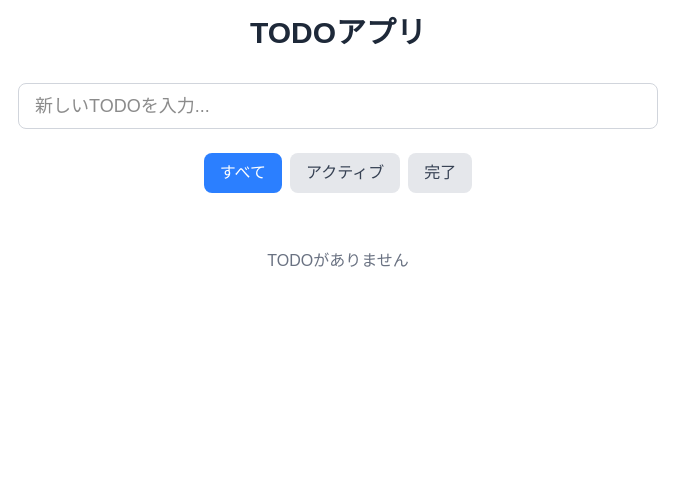
Test: TodoApp 統合テスト › 基本的な操作フロー › 完了したタスクをクリアできる
Type "アクティブなタスク" into the field with placeholder "新しいTODOを入力...".
click(338, 106); type("アクティブなタスク")  # box [18,83,658,129]
Then press Enter
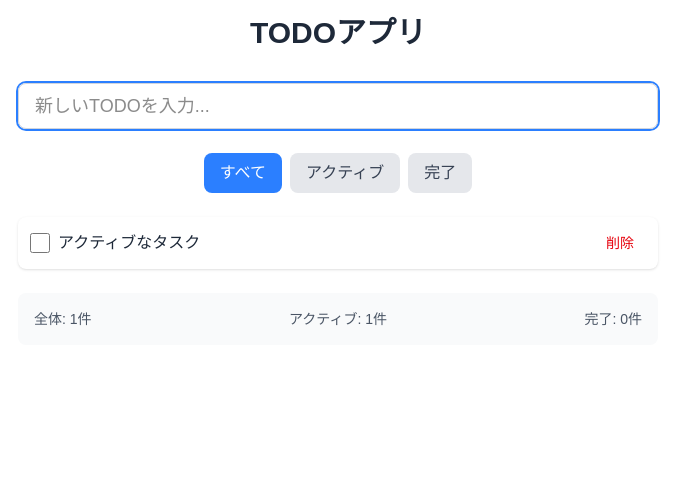
Type "完了するタスク" into the field with placeholder "新しいTODOを入力...".
click(338, 106); type("完了するタスク")  # box [18,83,658,129]
Then press Enter
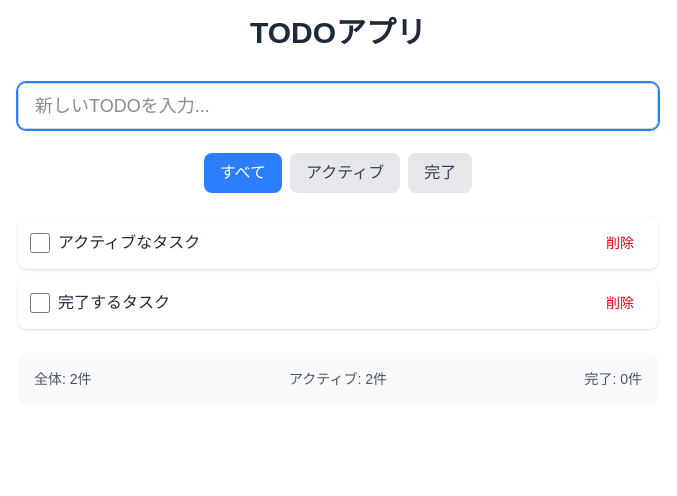
Click the 2nd checkbox.
click(40, 303)  # box [30,293,50,313]
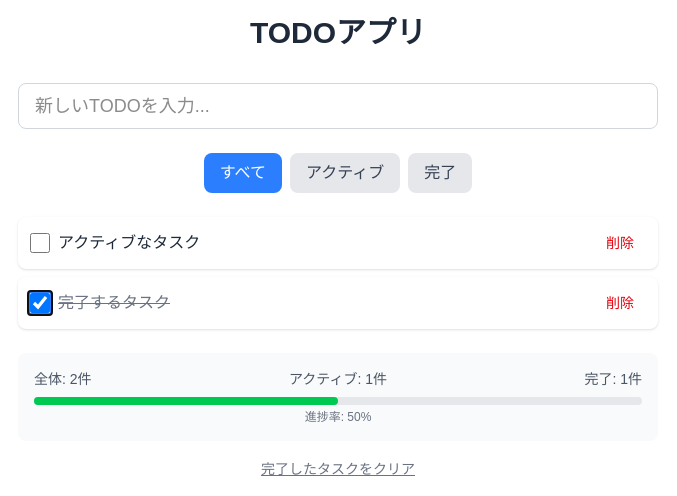
expect the button "完了したタスクをクリア" is shown: met
Click the button "完了したタスクをクリア".
click(338, 469)  # box [261,459,415,479]
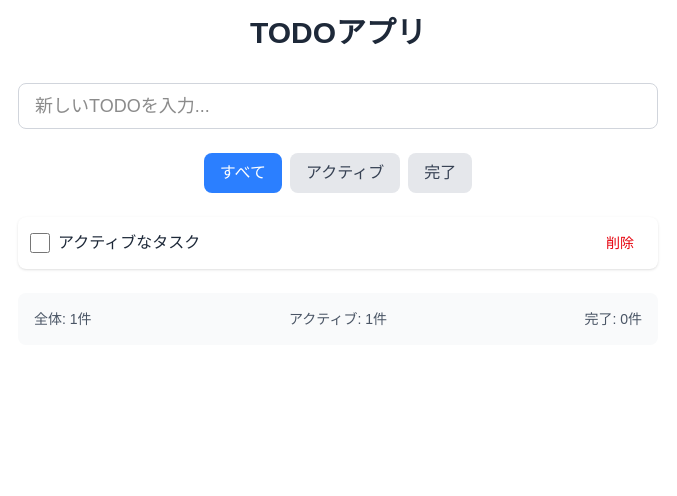
expect the text "アクティブなタスク" is shown: met, box [58,234,200,251]
expect the text "完了するタスク" is gone: met
expect the button "完了したタスクをクリア" is gone: met
